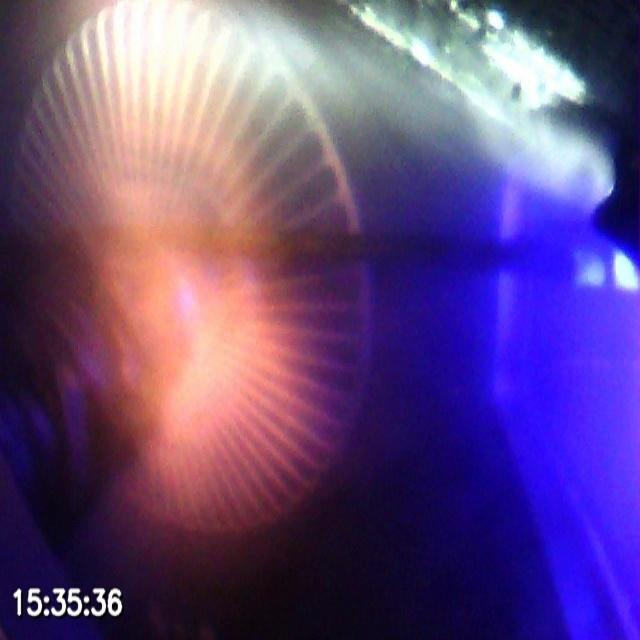white-dots: (572, 243, 640, 296)
